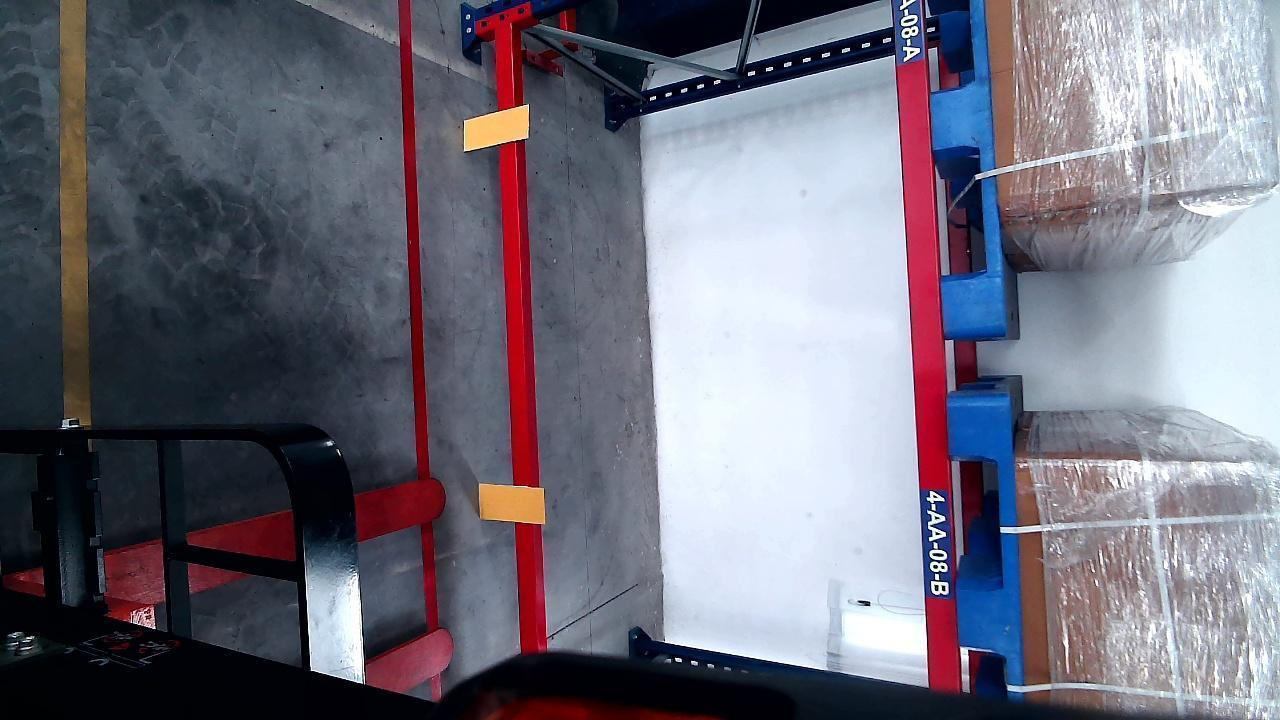red_line: (398, 0, 434, 492)
yellow_line: (58, 0, 92, 423)
